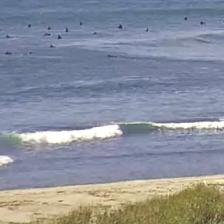surfer: (6, 34, 15, 40), (107, 54, 117, 59), (199, 20, 206, 26), (4, 51, 12, 56), (183, 16, 189, 22), (117, 24, 123, 30), (64, 28, 70, 34), (56, 34, 62, 40), (44, 32, 52, 36), (28, 51, 34, 56), (49, 45, 56, 49), (145, 28, 150, 33), (79, 21, 84, 26), (92, 31, 98, 35), (47, 27, 53, 31), (28, 24, 32, 28)
